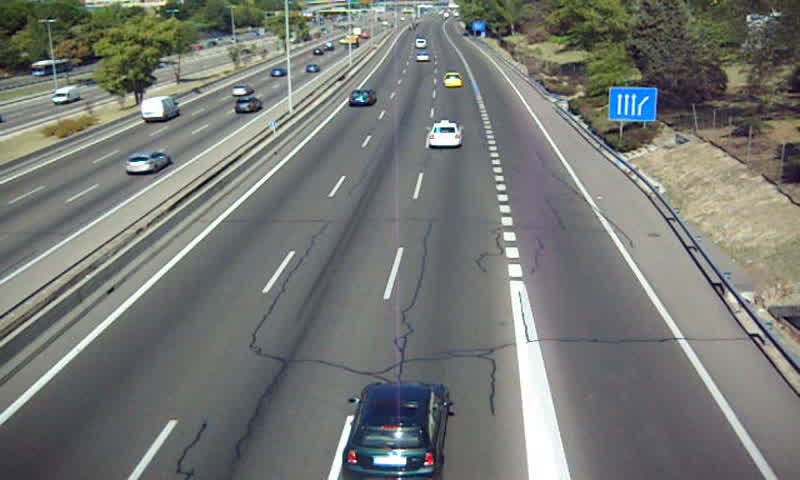car: (345, 384, 447, 480), (429, 121, 462, 148), (348, 89, 377, 107), (443, 71, 462, 88), (415, 51, 431, 64)
